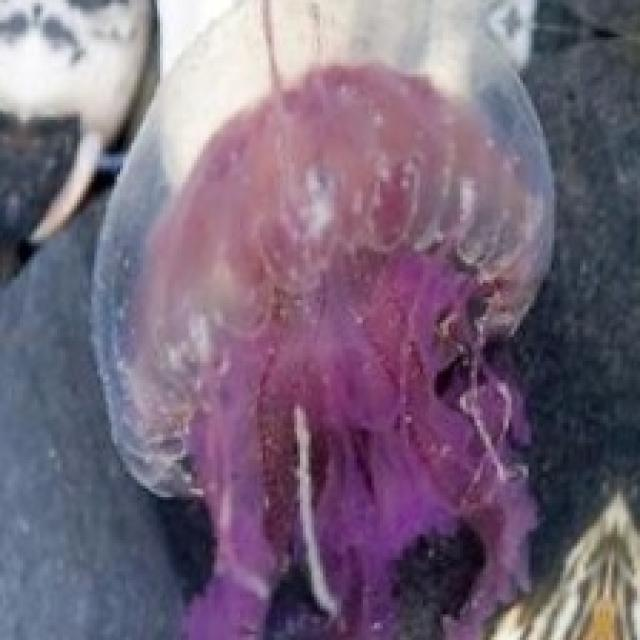Moon-jellyfish: (86, 0, 557, 637), (0, 0, 157, 291)
